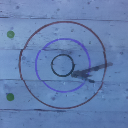Axe Tip: (75, 74, 86, 76)
